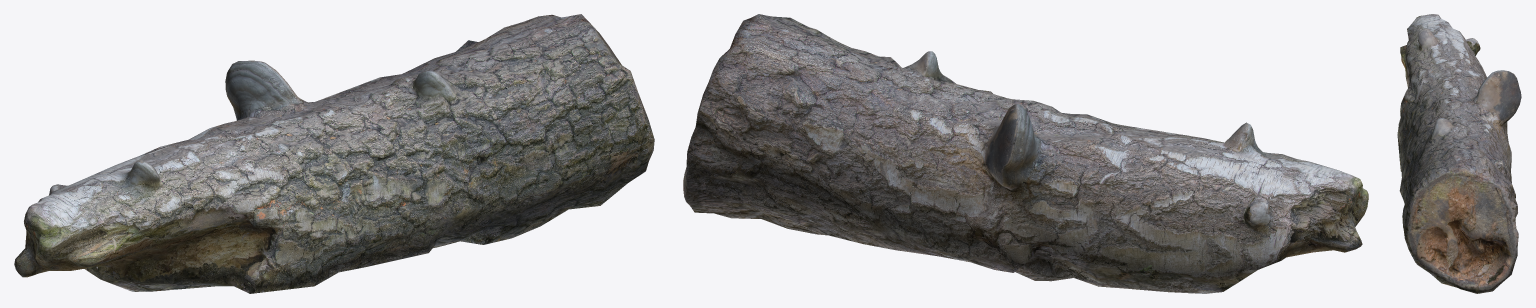
File: SM_Debris_09_01.fbx
3 renders of one model, left to right at view 1: azimuth 30°, elevation 25°; view 2: azimuth 150°, elevation 25°; view 3: azimuth 270°, elevation 25°, orthographic. The views are drawn at different scales.
Visible parts, largest first — view 1: sm_Debris_09_01_LOD0; view 2: sm_Debris_09_01_LOD0; view 3: sm_Debris_09_01_LOD0.
Boxes of the visible parts, x1,y1,x2,y2 form: sm_Debris_09_01_LOD0: (14, 14, 654, 293); sm_Debris_09_01_LOD0: (683, 14, 1368, 293); sm_Debris_09_01_LOD0: (1397, 14, 1521, 293).
Bounding box in the file's own units: 38.45 × 143 × 43.05.
